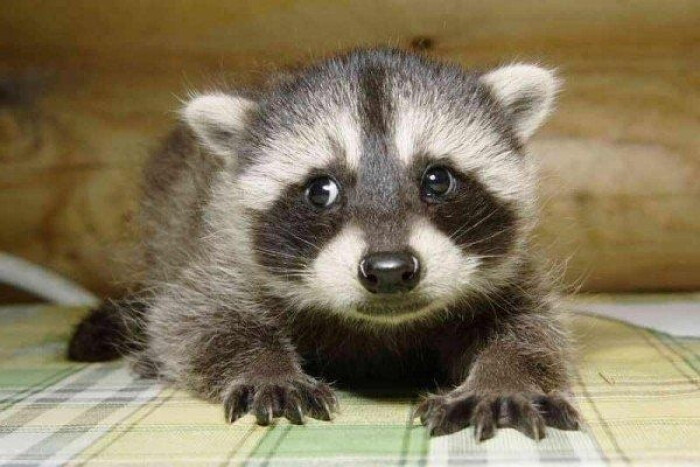raccoon: (61, 37, 588, 449)
